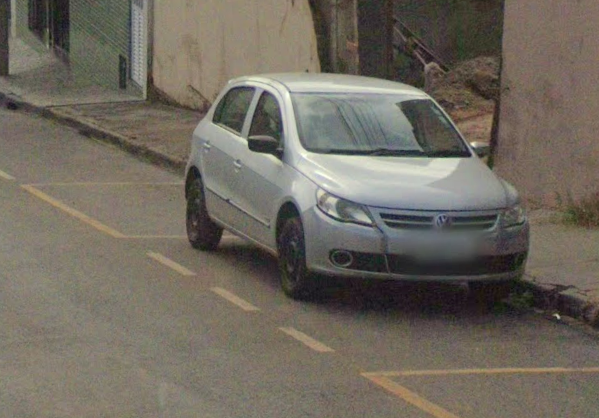car: (176, 61, 537, 316)
